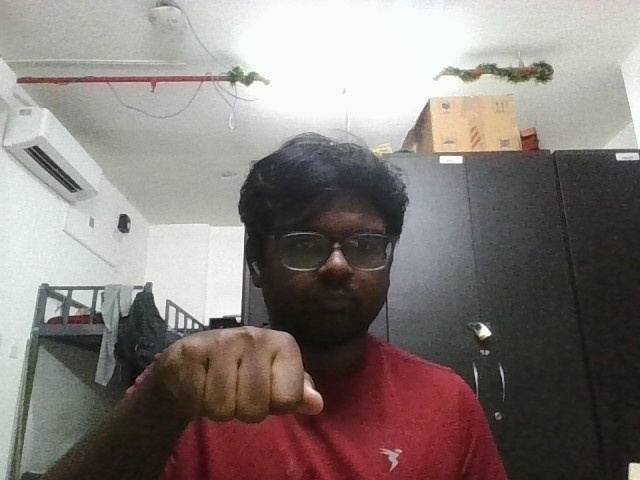Yes: (142, 314, 339, 433)
